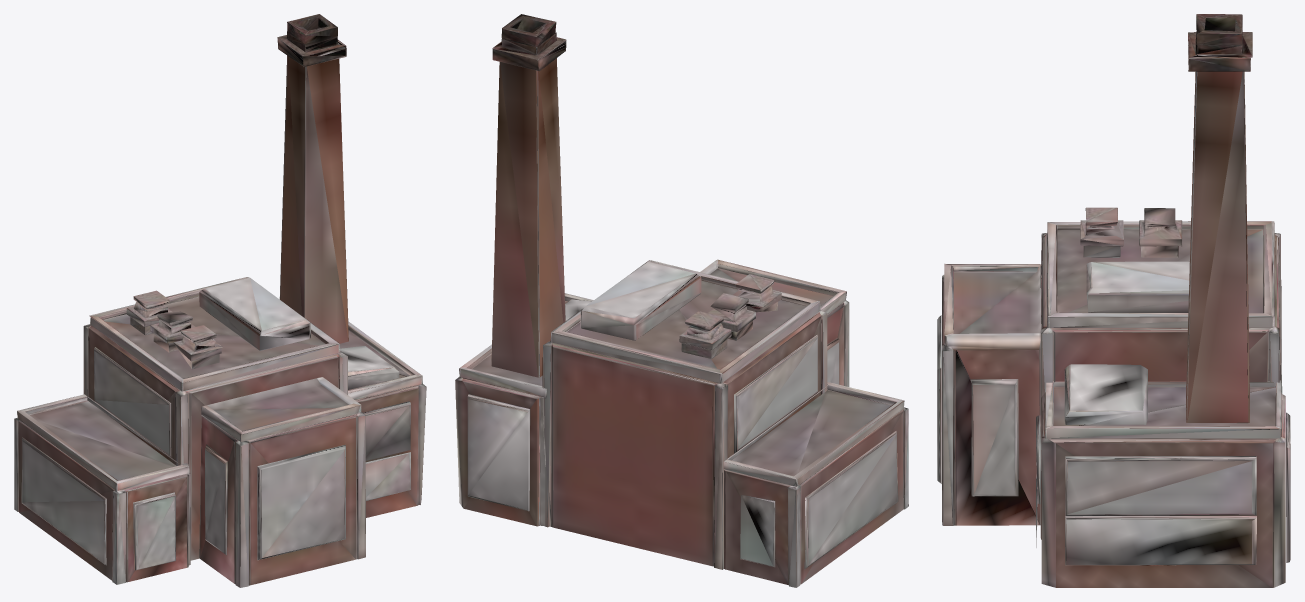
The model's file is 19-factory-with-chimney.glb.
The picture shows the model from 3 angles, left to right: view 1: azimuth 30°, elevation 25°; view 2: azimuth 150°, elevation 25°; view 3: azimuth 270°, elevation 25°; orthographic projection. The views are drawn at different scales.
Visible parts, largest first — view 1: geometry_0; view 2: geometry_0; view 3: geometry_0.
Boxes of the visible parts, x1,y1,x2,y2 form: geometry_0: [14, 14, 426, 587]; geometry_0: [455, 14, 908, 587]; geometry_0: [937, 14, 1290, 587].
Bounding box in the file's own units: 0.7348 × 0.9531 × 0.5665.
1 material, 1 textured.
